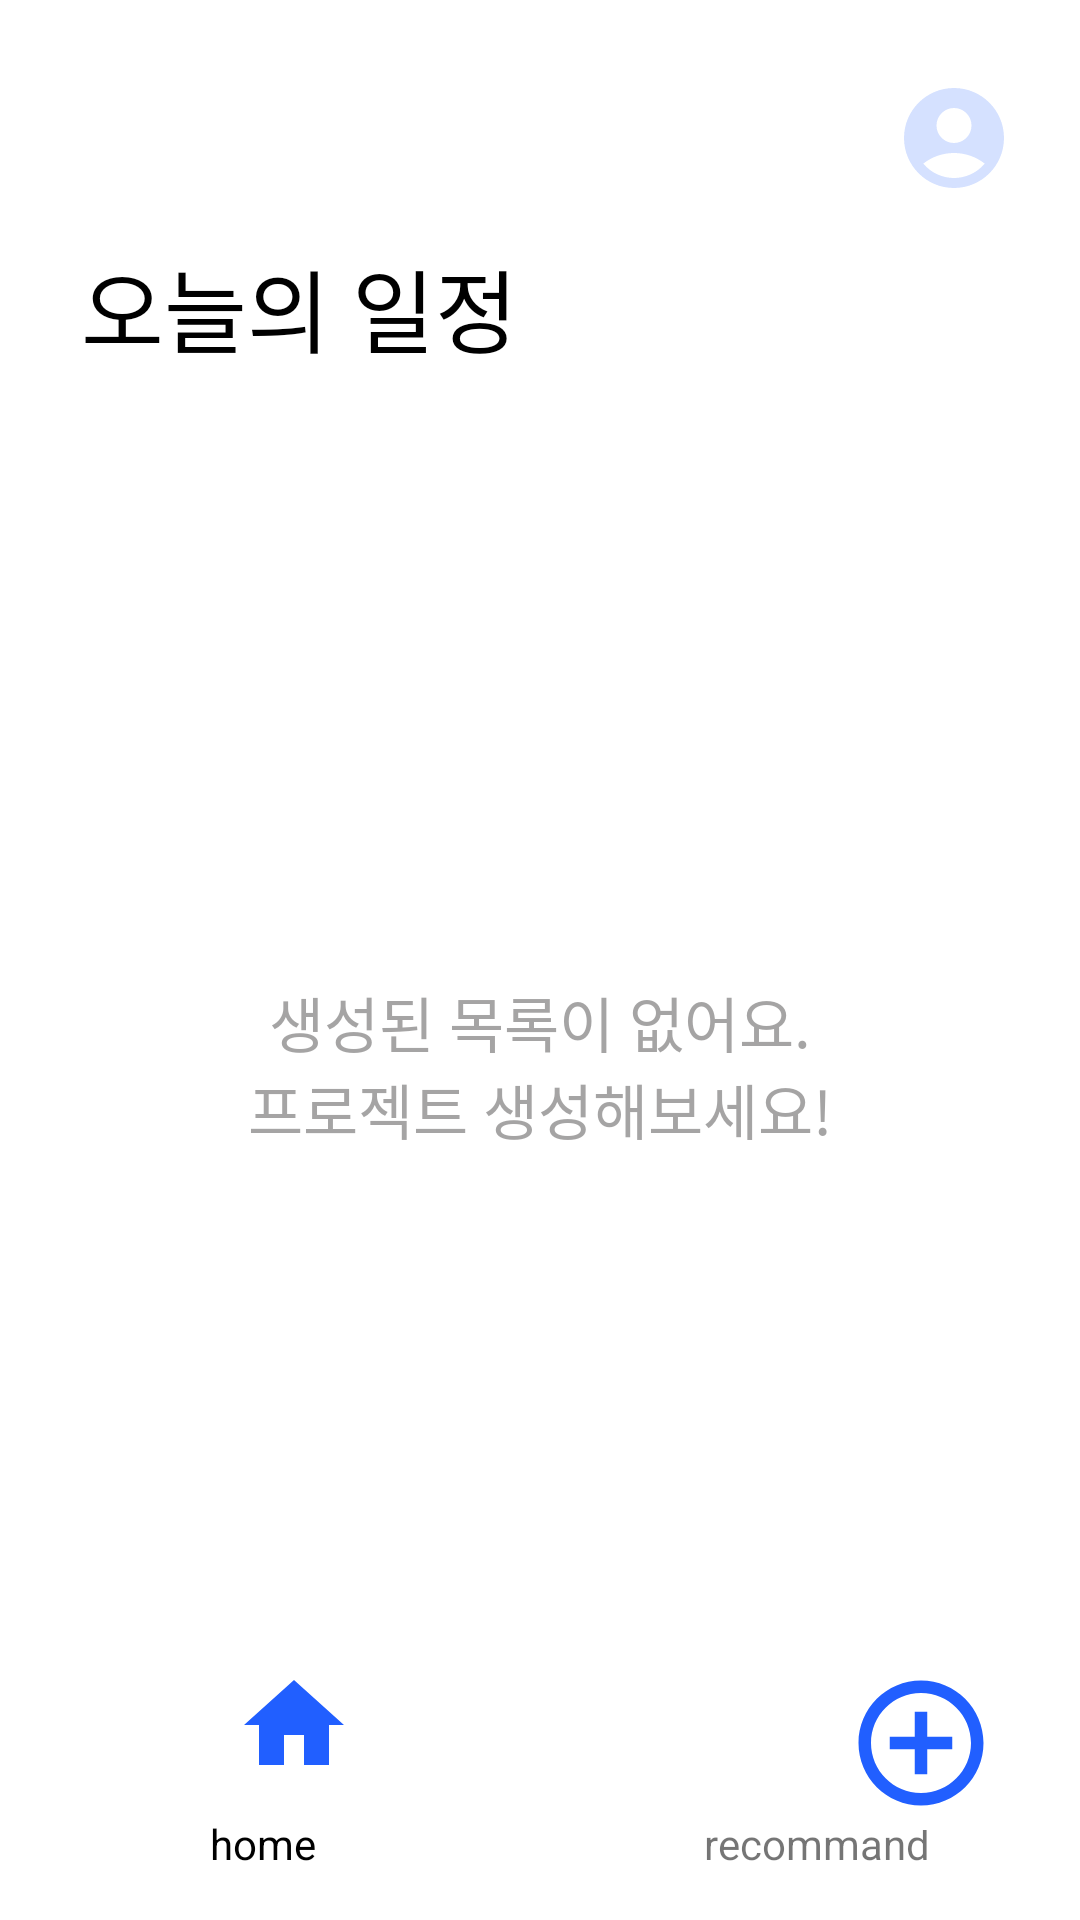

Screen size 1080×1920. Icon name, then its box in pixels as (left=x1, top=y1, right=x2, bottom=y2):
add circle: (left=858, top=1680, right=984, bottom=1806)
myaccount: (left=904, top=88, right=1004, bottom=188)
